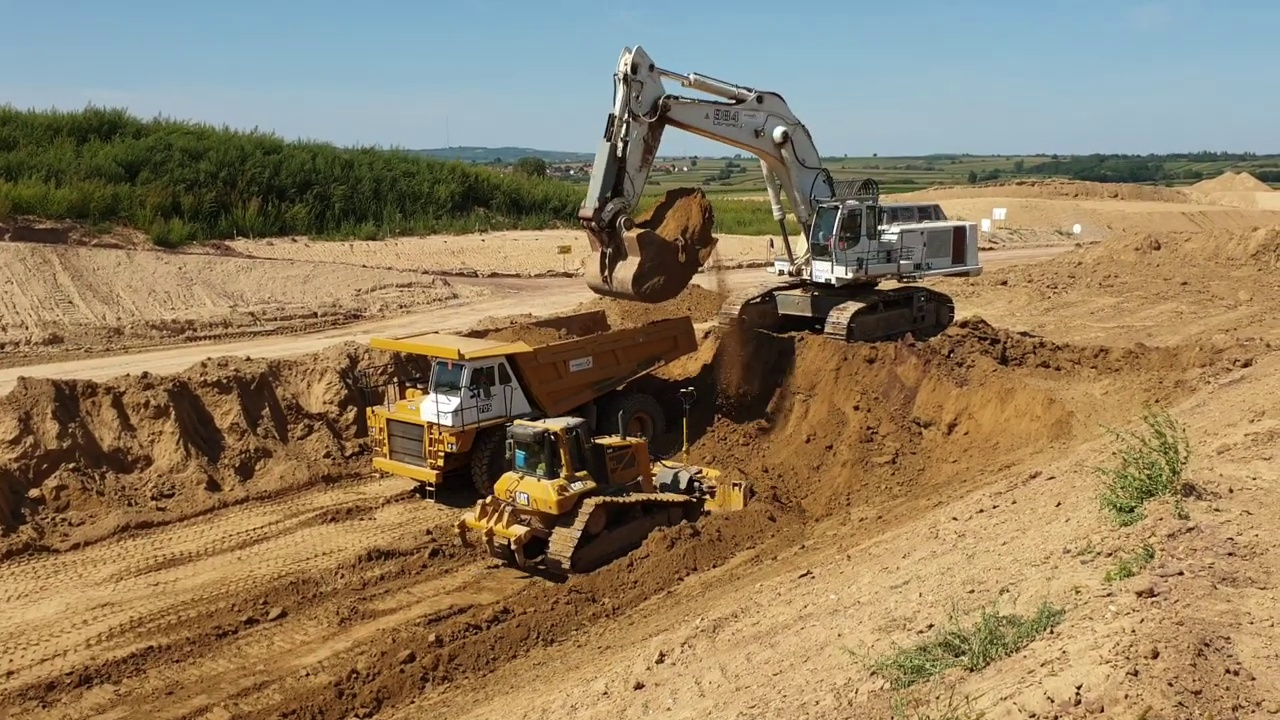bulldozer: (457, 383, 754, 583)
excavator: (573, 38, 985, 350)
truck: (352, 306, 704, 505)
